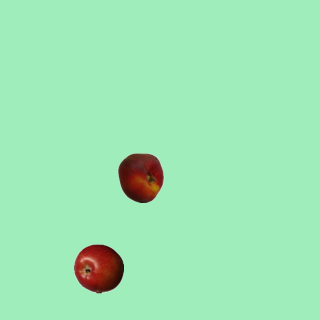Apple Braeburn: (73, 243, 123, 293)
Nectarine Flat: (115, 152, 165, 202)
